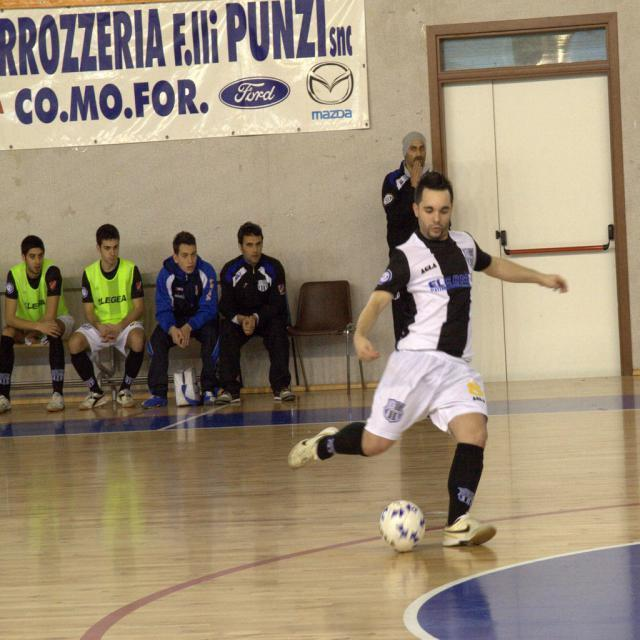football: (374, 489, 431, 563)
